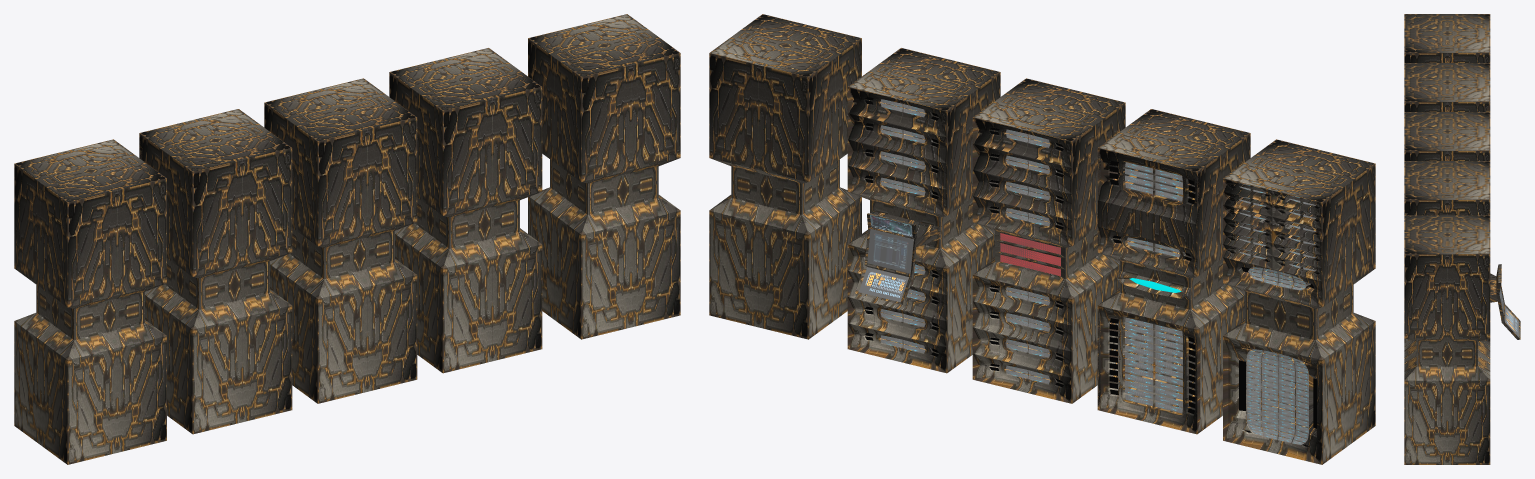
File: sci-fi_server_racks_opt.glb
3 renders of one model, left to right at view 1: azimuth 30°, elevation 25°; view 2: azimuth 150°, elevation 25°; view 3: azimuth 270°, elevation 25°, orthographic. The views are drawn at different scales.
Visible parts, largest first — view 1: MaterialFBXASC032FBXASC0352142150880 (×5); view 2: MaterialFBXASC032FBXASC0352142150880 (×5), MaterialFBXASC032FBXASC0352142146802 (×4), ORDNUNGSKRAFTFBXASC032Graviton (×4), MaterialFBXASC032FBXASC0352142147152, MaterialFBXASC032FBXASC03511298, MaterialFBXASC032FBXASC0352142148579; view 3: MaterialFBXASC032FBXASC0352142150880 (×5), MaterialFBXASC032FBXASC0352142148579.
Part boxes in pixels (x1,y1,x2,y2): MaterialFBXASC032FBXASC0352142150880 (×5): [14, 14, 680, 464]; MaterialFBXASC032FBXASC0352142150880 (×5): [709, 14, 1375, 464]; MaterialFBXASC032FBXASC0352142146802 (×4): [880, 99, 1315, 444]; ORDNUNGSKRAFTFBXASC032Graviton (×4): [865, 97, 1319, 446]; MaterialFBXASC032FBXASC0352142147152: [867, 229, 913, 273]; MaterialFBXASC032FBXASC03511298: [1000, 233, 1060, 276]; MaterialFBXASC032FBXASC0352142148579: [859, 267, 908, 302]; MaterialFBXASC032FBXASC0352142150880 (×5): [1404, 14, 1520, 464]; MaterialFBXASC032FBXASC0352142148579: [1505, 306, 1518, 337].
Bounding box in the file's own units: 60.64 × 24.78 × 12.39.
8 materials, 1 textured.
